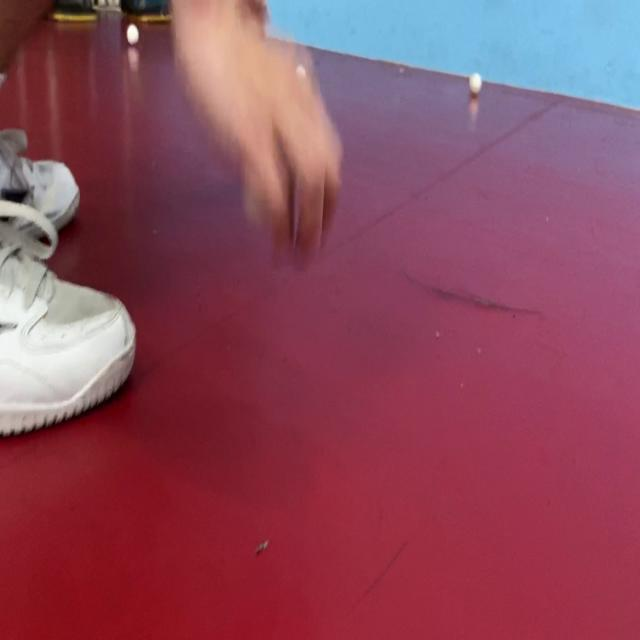ping-pong-ball: (125, 20, 142, 50)
